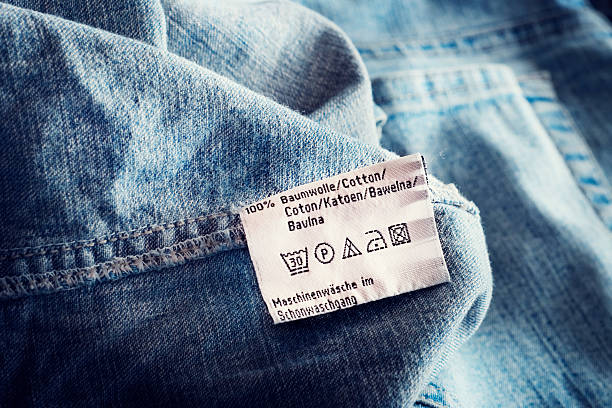ER_dry_clean_chemical: (313, 241, 337, 265)
ER_iron_low_temp: (363, 228, 389, 253)
ER_no_bleach: (338, 236, 364, 262)
ER_no_tumble_dry: (386, 222, 413, 246)
ER_wash_30_mild: (278, 244, 311, 278)
